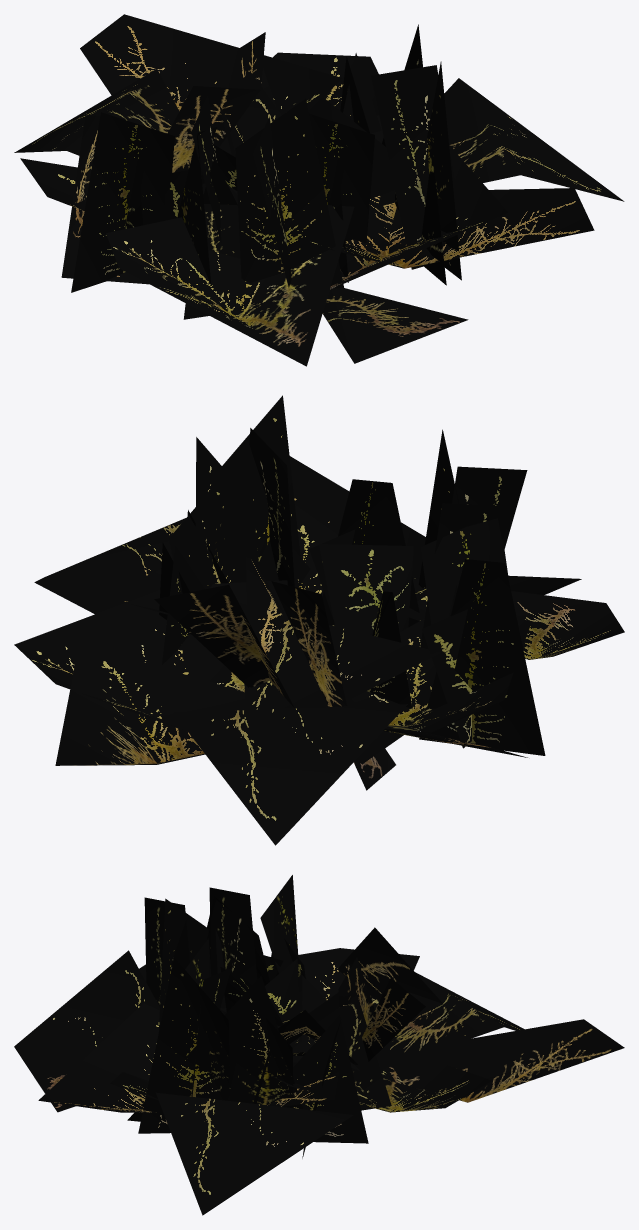
Rendered from SM_Plant_ForestMoss.fbx.
3 views of the same model, one above another, from view 1: azimuth 30°, elevation 25°; view 2: azimuth 150°, elevation 25°; view 3: azimuth 270°, elevation 25° (orthographic). The views are drawn at different scales.
Parts seen in each view (by area): view 1: SM_Plant_ForestMoss; view 2: SM_Plant_ForestMoss; view 3: SM_Plant_ForestMoss.
Part boxes in pixels (<box>): SM_Plant_ForestMoss: <box>14,14,624,366</box>; SM_Plant_ForestMoss: <box>14,395,624,845</box>; SM_Plant_ForestMoss: <box>14,875,624,1215</box>.
Size of the model in its own units: 57.52 by 68.39 by 23.17.
1 material, 1 textured.
